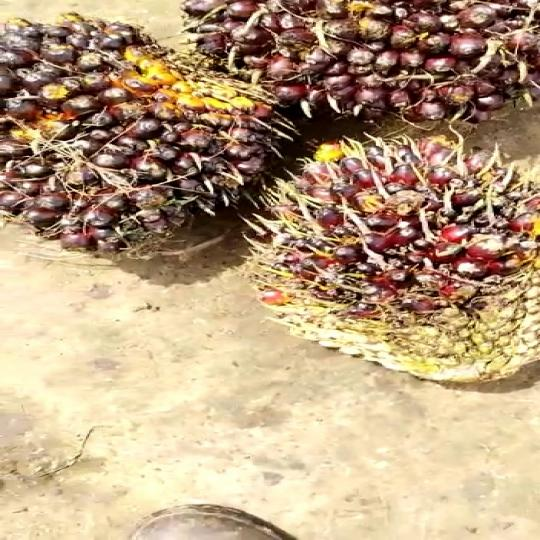kurang masak: (0, 0, 264, 257), (274, 141, 540, 394), (198, 0, 540, 111)
